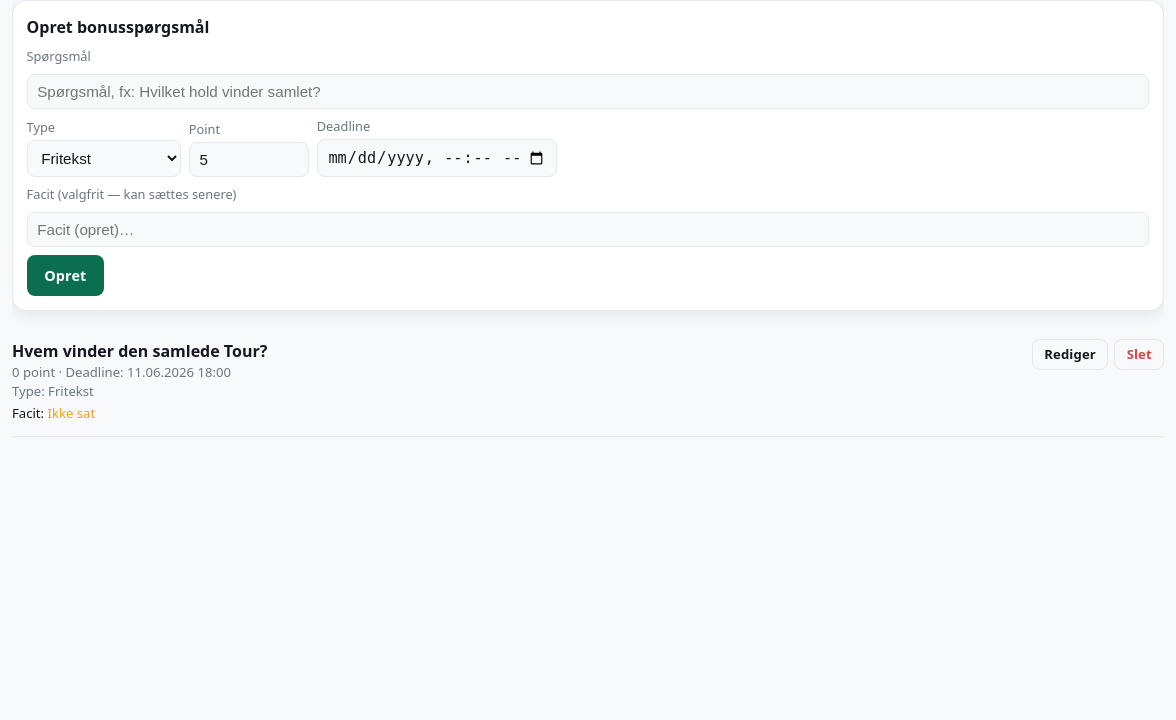
Test case: BonusTab › åbner fuld redigeringsformular ved klik på Rediger
Click the button "Rediger".
click(1070, 354)  # box [1032,339,1108,370]
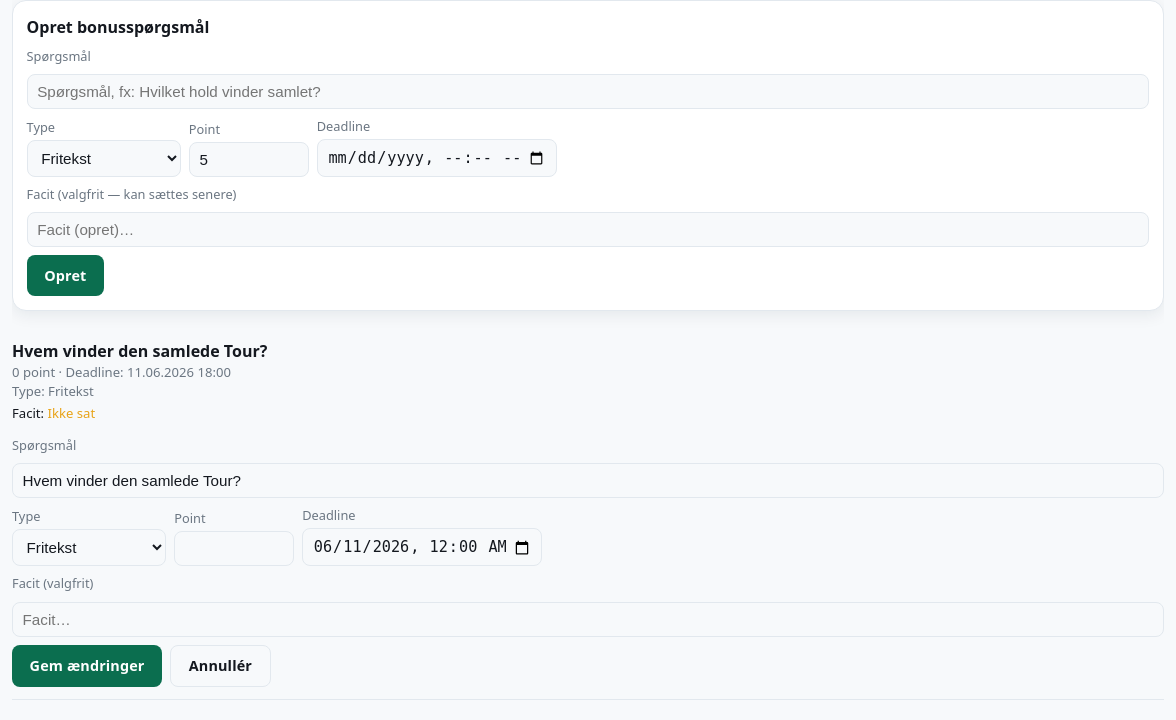
Now the element with test id "bonus-edit-form" is shown, box [12,436,1164,687]
